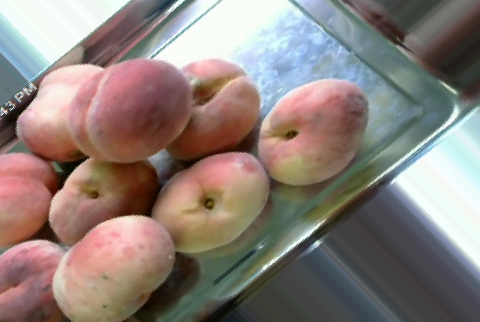Peach: (53, 213, 175, 320), (67, 57, 190, 160), (151, 152, 268, 253), (258, 79, 366, 184), (156, 55, 258, 156), (47, 153, 160, 242), (15, 63, 111, 164), (0, 148, 58, 251)
